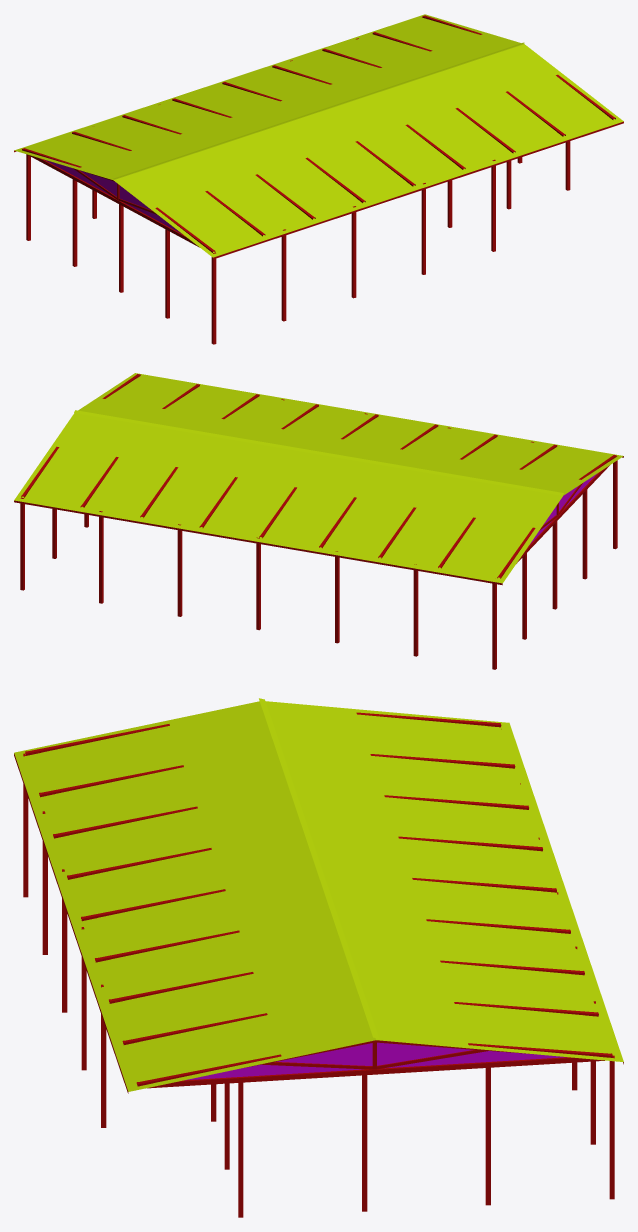
The model's file is rmc_29.glb.
3 renders of one model, top to bottom at view 1: azimuth 30°, elevation 25°; view 2: azimuth 150°, elevation 25°; view 3: azimuth 270°, elevation 25°, orthographic. The views are drawn at different scales.
Visible parts, largest first — view 1: rmc_29; view 2: rmc_29; view 3: rmc_29.
Boxes of the visible parts, bbox=[...] form: rmc_29: bbox=[14, 14, 623, 344]; rmc_29: bbox=[14, 373, 623, 669]; rmc_29: bbox=[14, 698, 623, 1217].
Bounding box in the file's own units: 33.56 × 7.61 × 23.43.
